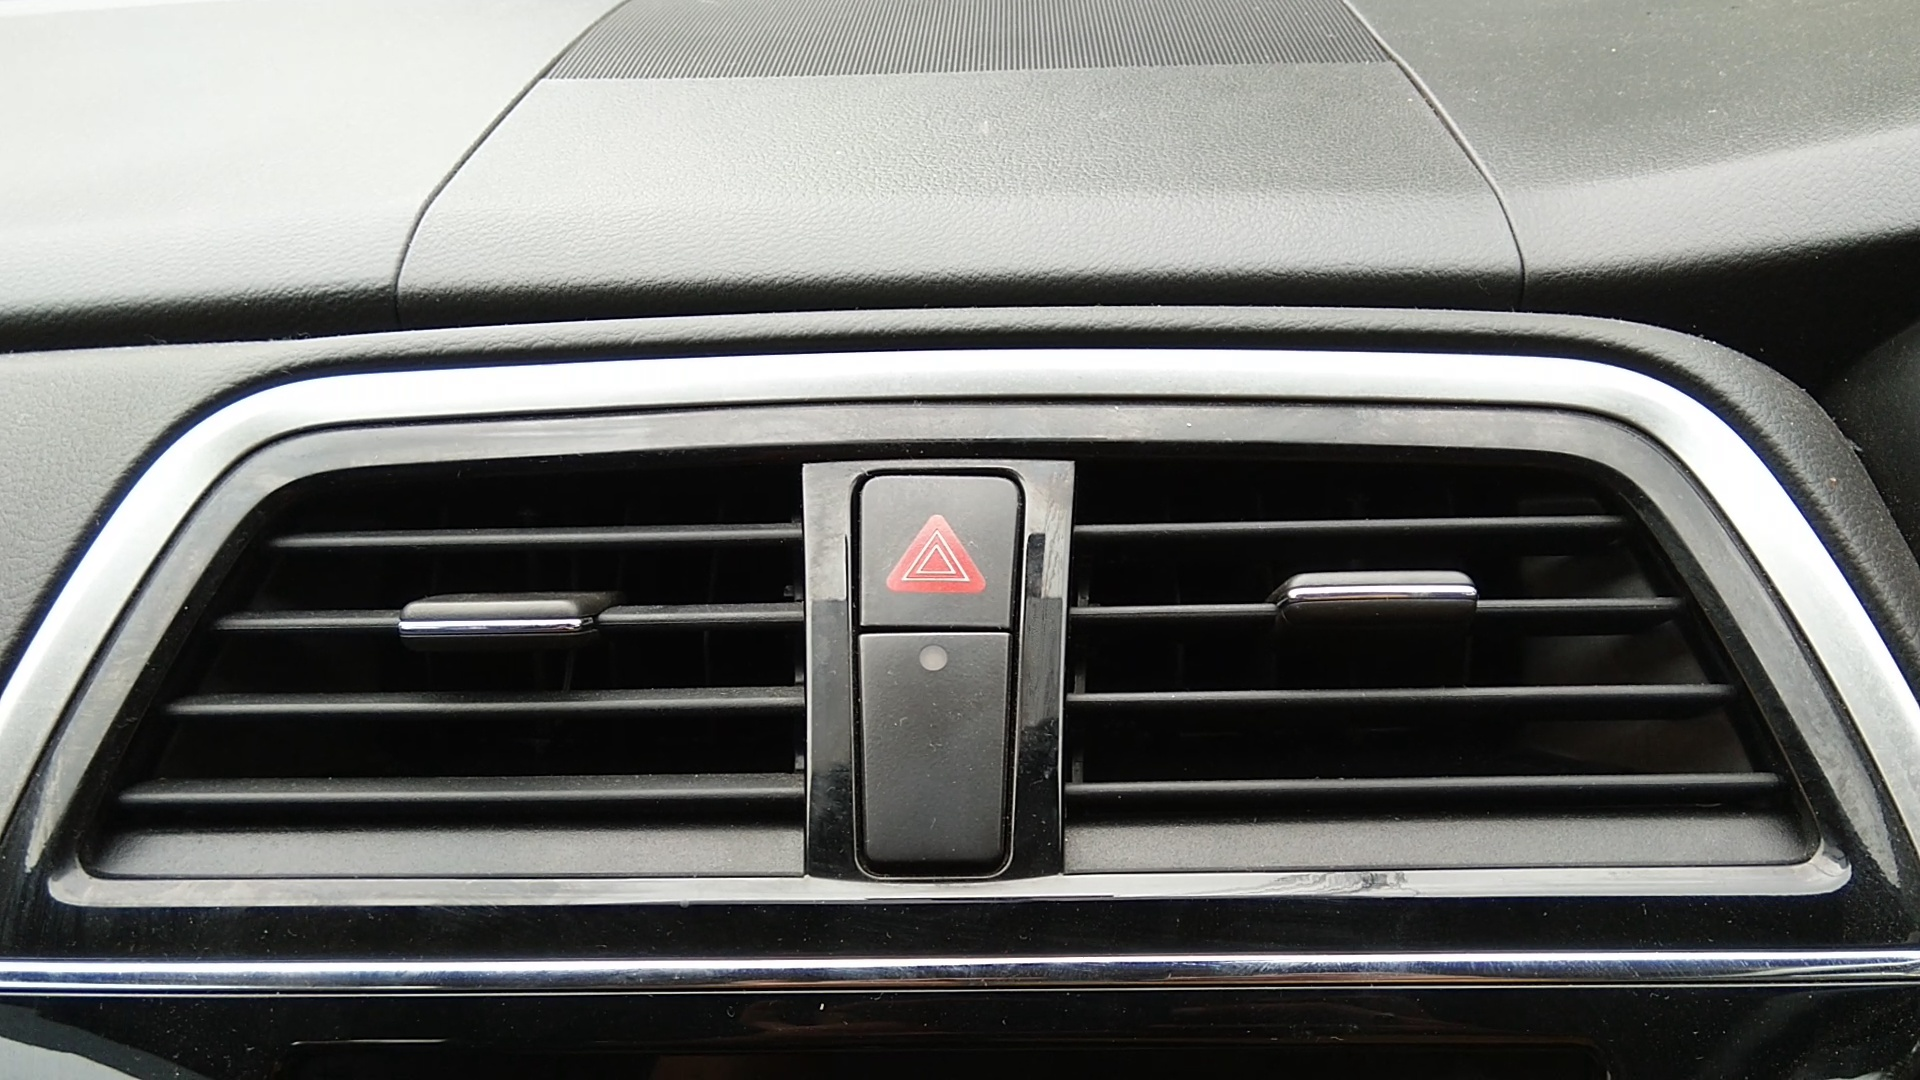parking_button: (831, 460, 1046, 642)
